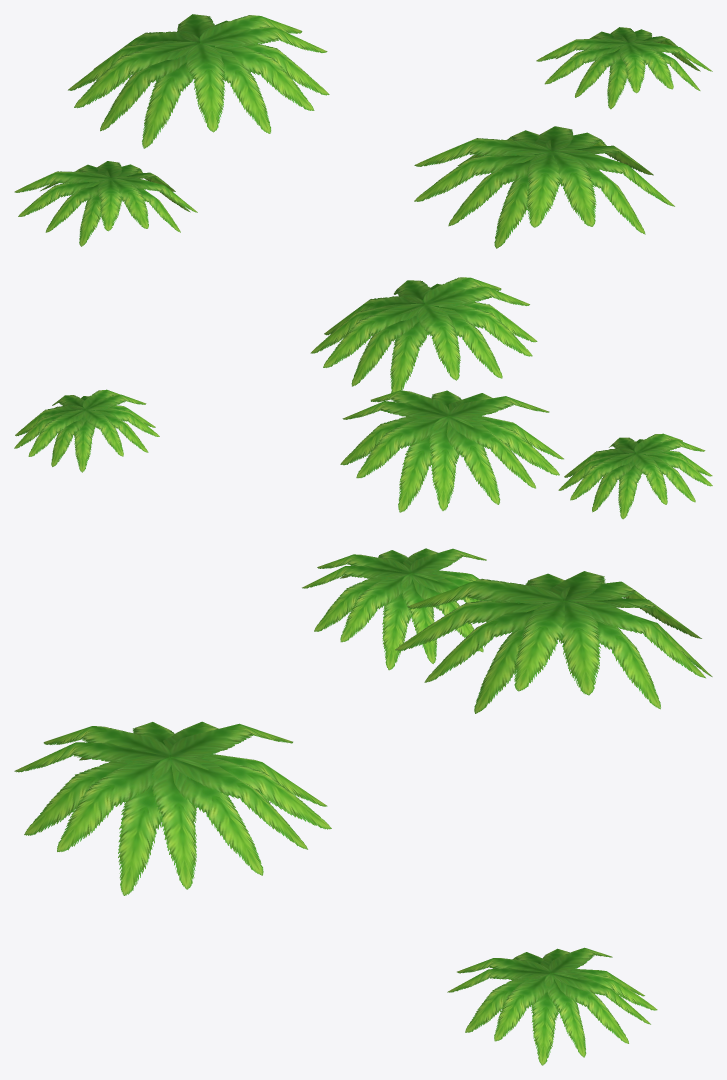
Rendered from PalmCrownIslandShape.dae.
The picture shows the model from 3 angles, top to bottom: view 1: azimuth 30°, elevation 25°; view 2: azimuth 150°, elevation 25°; view 3: azimuth 270°, elevation 25°; orthographic projection. The views are drawn at different scales.
Visible parts, largest first — view 1: PalmCrownIsland; view 2: PalmCrownIsland; view 3: PalmCrownIsland.
Part boxes in pixels (x1,y1,x2,y2): PalmCrownIsland: [14, 14, 712, 248]; PalmCrownIsland: [14, 277, 712, 519]; PalmCrownIsland: [14, 548, 712, 1065].
Size of the model in its own units: 42.62 by 8.36 by 29.26.
